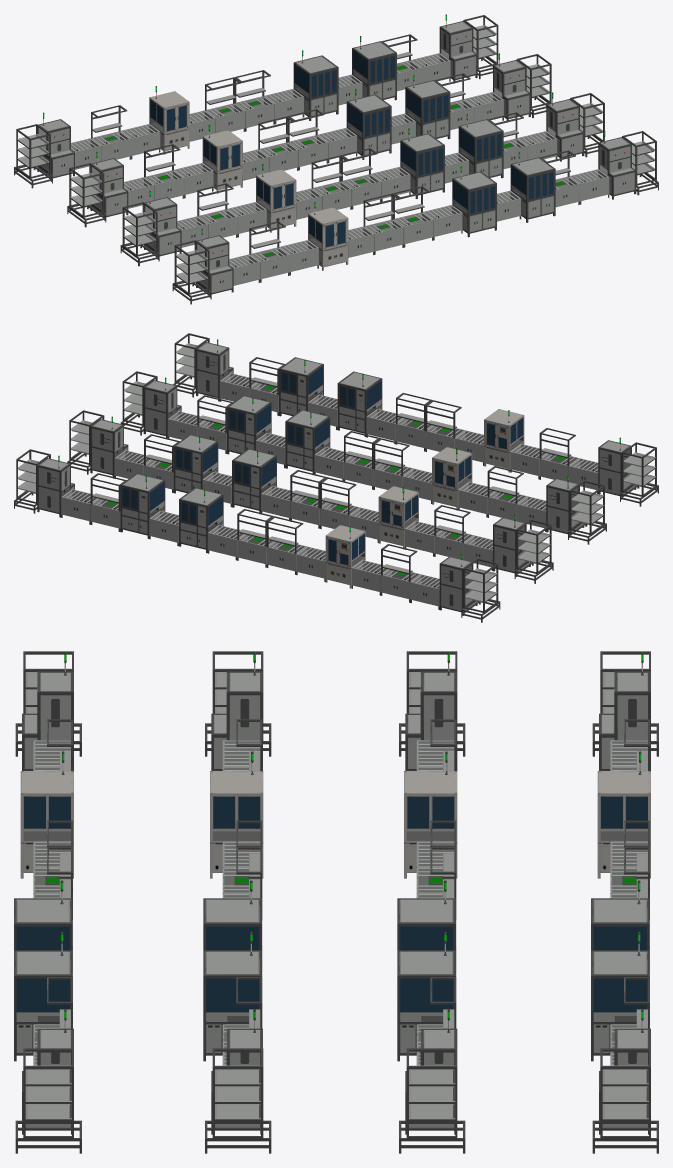
File: production-lines.glb
The picture shows the model from 3 angles, top to bottom: view 1: azimuth 30°, elevation 25°; view 2: azimuth 150°, elevation 25°; view 3: azimuth 270°, elevation 25°; orthographic projection. The views are drawn at different scales.
Visible parts, largest first — view 1: Machine-FAN.body.003, Machine-DIMM.body.003, Machine-DIMM.body, Machine-DIMM.body.001, Machine-DIMM.body.002, Machine-FAN.body.001, Machine-FAN.body.002, Machine-FAN.body, Machine-AOI.body.003, Machine-AOI.body.001, Machine-AOI.body, Machine-AOI.body.002 (+56 smaller); view 2: Machine-DIMM.body.002, Machine-DIMM.body.003, Machine-FAN.body, Machine-DIMM.body, Machine-DIMM.body.001, Machine-FAN.body.001, Machine-FAN.body.002, Machine-FAN.body.003, Machine-AOI.body.003, Machine-AOI.body, Machine-AOI.body.002, Machine-AOI.body.001 (+56 smaller); view 3: Machine-FAN.body.002, Machine-FAN.body.001, Machine-FAN.body.003, Machine-FAN.body, Machine-AOI.body.001, Machine-AOI.body.002, Machine-AOI.body.003, Machine-AOI.body, rackbody-start.001, rackbody-start.002, Machine-Lifter-end.body.001, rackbody-start (+37 smaller).
Boxes of the visible parts, x1,y1,x2,y2 form: Machine-FAN.body.003: (510, 157, 555, 222); Machine-DIMM.body.003: (452, 171, 496, 237); Machine-DIMM.body: (293, 55, 338, 120); Machine-DIMM.body.001: (346, 94, 391, 159); Machine-DIMM.body.002: (400, 133, 444, 198); Machine-FAN.body.001: (405, 80, 450, 139); Machine-FAN.body.002: (458, 119, 503, 178); Machine-FAN.body: (352, 41, 396, 100); Machine-AOI.body.003: (308, 207, 348, 270); Machine-AOI.body.001: (202, 130, 242, 193); Machine-AOI.body: (149, 91, 189, 154); Machine-AOI.body.002: (256, 169, 296, 232); Machine-DIMM.body.002: (285, 409, 330, 473); Machine-DIMM.body.003: (337, 371, 382, 436); Machine-FAN.body: (120, 473, 165, 538); Machine-DIMM.body: (179, 487, 223, 553); Machine-DIMM.body.001: (232, 448, 276, 512); Machine-FAN.body.001: (173, 434, 218, 493); Machine-FAN.body.002: (227, 395, 271, 454); Machine-FAN.body.003: (279, 357, 323, 416); Machine-AOI.body.003: (484, 409, 524, 472); Machine-AOI.body: (325, 525, 365, 588); Machine-AOI.body.002: (432, 447, 472, 510); Machine-AOI.body.001: (378, 486, 418, 549); Machine-FAN.body.002: (203, 950, 261, 1061); Machine-FAN.body.001: (397, 950, 455, 1061); Machine-FAN.body.003: (14, 950, 72, 1061); Machine-FAN.body: (591, 950, 649, 1061); Machine-AOI.body.001: (404, 771, 457, 878); Machine-AOI.body.002: (210, 771, 263, 878); Machine-AOI.body.003: (20, 771, 73, 878); Machine-AOI.body: (597, 771, 650, 878); rackbody-start.001: (406, 1048, 457, 1138); rackbody-start.002: (212, 1048, 263, 1138); Machine-Lifter-end.body.001: (405, 671, 457, 770); rackbody-start: (600, 1048, 650, 1138).
Bounding box in the file's own units: 39.67 × 4.83 × 26.01.
17 materials, 12 textured.
